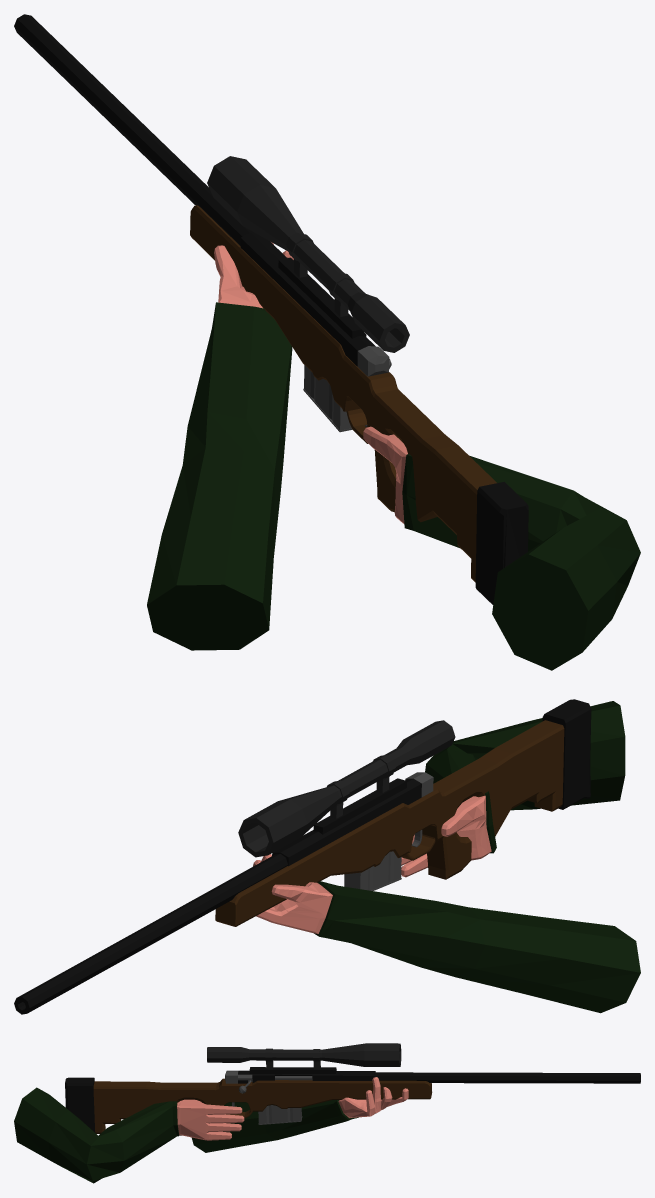
The model's file is vm_awp.glb.
3 renders of one model, top to bottom at view 1: azimuth 30°, elevation 25°; view 2: azimuth 150°, elevation 25°; view 3: azimuth 270°, elevation 25°, orthographic. The views are drawn at different scales.
Parts seen in each view (by area): view 1: arms, gun; view 2: gun, arms; view 3: gun, arms.
Boxes of the visible parts, box(x1,y1,x2,y2) form: arms: box(147, 242, 640, 670); gun: box(14, 14, 528, 604); gun: box(14, 699, 591, 1014); arms: box(253, 701, 640, 1013); gun: box(65, 1043, 640, 1139); arms: box(14, 1077, 408, 1183).
Bounding box in the file's own units: 1.2 × 0.9649 × 3.56.
